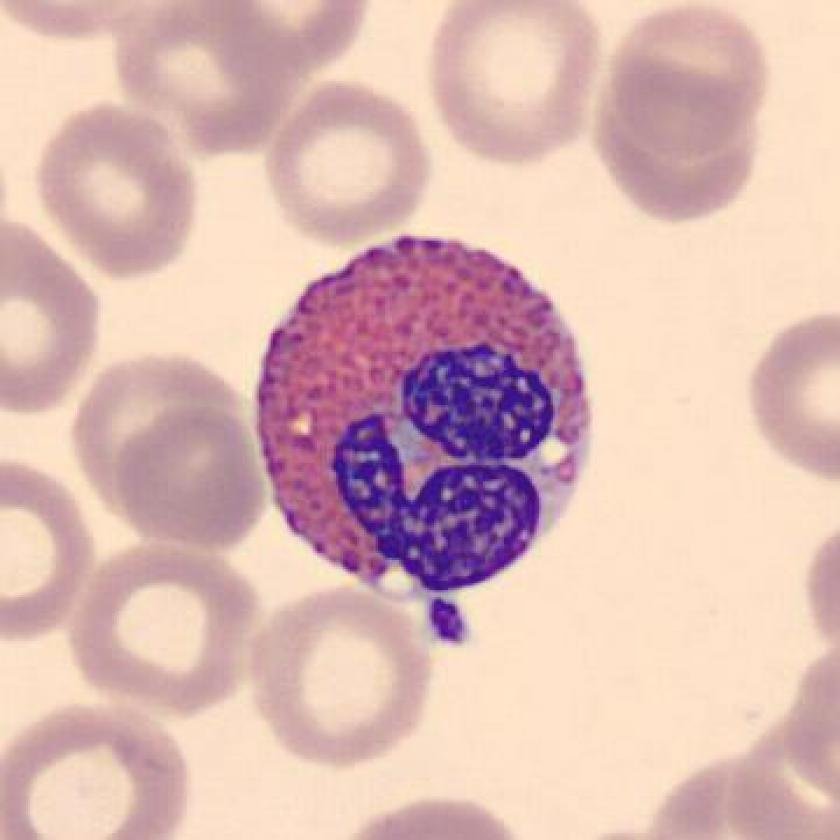eosinophil: (244, 221, 603, 610)
